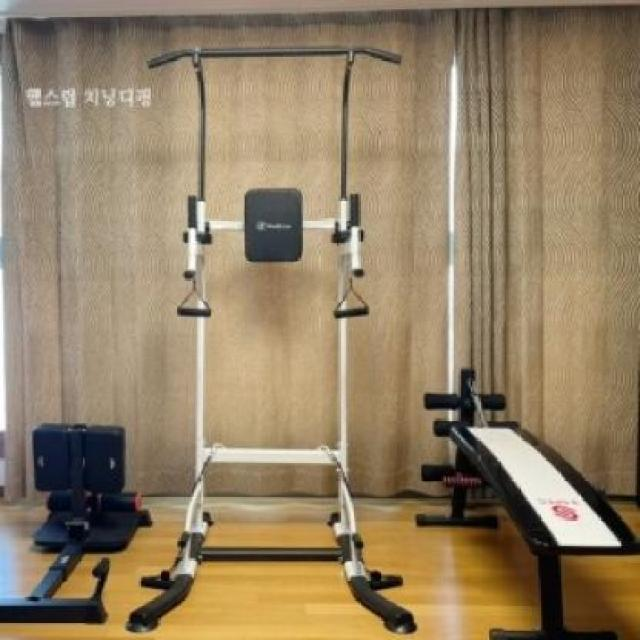chinning dipping: (148, 43, 402, 632)
